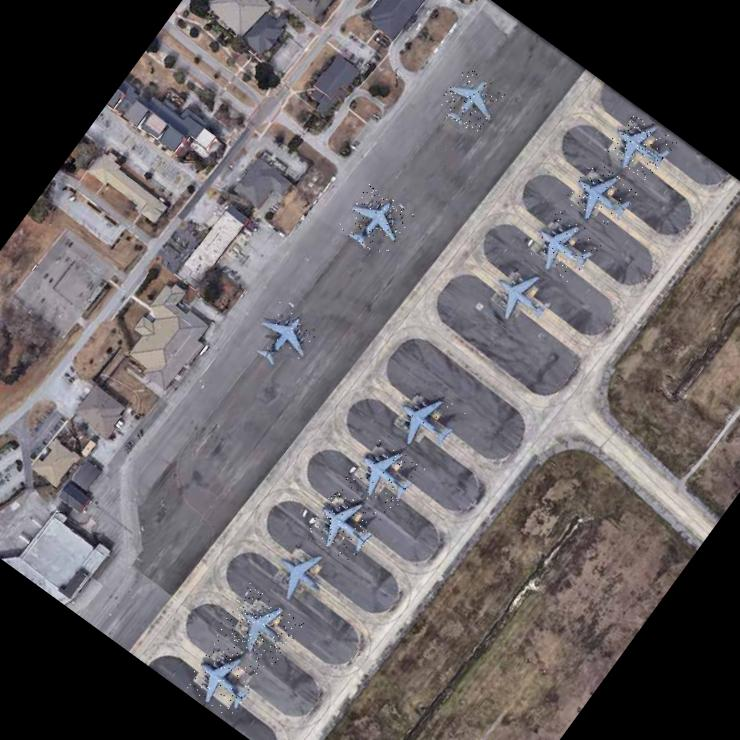A3: (213, 582, 304, 673), (255, 528, 342, 613), (382, 378, 466, 462), (342, 434, 425, 517), (182, 638, 262, 718), (242, 296, 321, 377), (335, 181, 414, 260), (481, 255, 560, 334), (304, 484, 382, 564), (525, 208, 603, 287), (561, 157, 639, 235), (602, 109, 678, 184), (433, 64, 506, 138)
